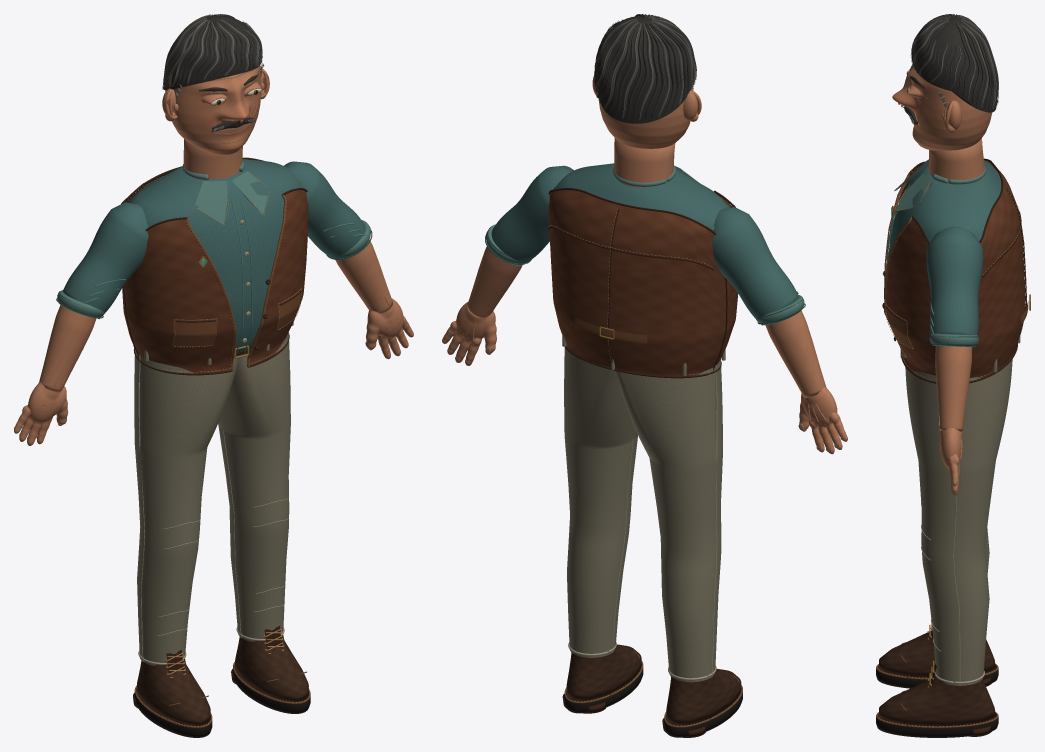
3 renders of one model, left to right at view 1: azimuth 30°, elevation 25°; view 2: azimuth 150°, elevation 25°; view 3: azimuth 270°, elevation 25°, orthographic.
Visible parts, largest first — view 1: Trousers and belt / 02 | Warm grey canvas, Woven shirt / 01 | Faded petrol woven cotton, Leather waistcoat / 03 | Chestnut leather, Hands and forearms / 05 | Warm skin with vertex complexion, Boots / 04 | Polished work boot leather, Head and face / 05 | Warm skin with vertex complexion, Hair / 06 | Salt and pepper — charcoal, Woven shirt / Cotton | folded edges, Leather waistcoat / Leather | raised edge, Hair / Hair | warm graphite, Boots / Rubber and heel, Neck / 05 | Warm skin with vertex complexion (+2 smaller); view 2: Trousers and belt / 02 | Warm grey canvas, Leather waistcoat / 03 | Chestnut leather, Woven shirt / 01 | Faded petrol woven cotton, Hands and forearms / 05 | Warm skin with vertex complexion, Hair / 06 | Salt and pepper — charcoal, Boots / 04 | Polished work boot leather, Hair / Hair | warm graphite, Head and face / 05 | Warm skin with vertex complexion, Neck / 05 | Warm skin with vertex complexion, Leather waistcoat / Leather | panel seams, Boots / Rubber and heel, Woven shirt / Cotton | folded edges (+2 smaller); view 3: Trousers and belt / 02 | Warm grey canvas, Leather waistcoat / 03 | Chestnut leather, Woven shirt / 01 | Faded petrol woven cotton, Boots / 04 | Polished work boot leather, Hair / 06 | Salt and pepper — charcoal, Head and face / 05 | Warm skin with vertex complexion, Hands and forearms / 05 | Warm skin with vertex complexion, Hair / Hair | warm graphite, Boots / Rubber and heel, Woven shirt / Cotton | folded edges, Neck / 05 | Warm skin with vertex complexion, Leather waistcoat / Leather | raised edge (+6 smaller).
Boxes of the visible parts, x1,y1,x2,y2 form: Trousers and belt / 02 | Warm grey canvas: [134, 322, 293, 665]; Woven shirt / 01 | Faded petrol woven cotton: [62, 159, 365, 358]; Leather waistcoat / 03 | Chestnut leather: [122, 159, 308, 373]; Hands and forearms / 05 | Warm skin with vertex complexion: [14, 239, 413, 445]; Boots / 04 | Polished work boot leather: [137, 634, 308, 726]; Head and face / 05 | Warm skin with vertex complexion: [162, 65, 269, 155]; Hair / 06 | Salt and pepper — charcoal: [163, 14, 261, 91]; Woven shirt / Cotton | folded edges: [57, 160, 370, 355]; Leather waistcoat / Leather | raised edge: [172, 194, 301, 371]; Hair / Hair | warm graphite: [162, 14, 264, 97]; Boots / Rubber and heel: [134, 664, 310, 737]; Neck / 05 | Warm skin with vertex complexion: [183, 139, 242, 179]; Trousers and belt / 02 | Warm grey canvas: [562, 333, 725, 682]; Leather waistcoat / 03 | Chestnut leather: [548, 190, 737, 376]; Woven shirt / 01 | Faded petrol woven cotton: [491, 163, 798, 325]; Hands and forearms / 05 | Warm skin with vertex complexion: [442, 246, 847, 454]; Hair / 06 | Salt and pepper — charcoal: [594, 14, 696, 123]; Boots / 04 | Polished work boot leather: [566, 644, 741, 725]; Hair / Hair | warm graphite: [594, 14, 696, 120]; Head and face / 05 | Warm skin with vertex complexion: [592, 75, 701, 148]; Neck / 05 | Warm skin with vertex complexion: [614, 138, 675, 187]; Leather waistcoat / Leather | panel seams: [547, 188, 735, 378]; Boots / Rubber and heel: [564, 663, 742, 737]; Woven shirt / Cotton | folded edges: [486, 165, 804, 325]; Trousers and belt / 02 | Warm grey canvas: [903, 335, 1020, 685]; Leather waistcoat / 03 | Chestnut leather: [886, 160, 1025, 377]; Woven shirt / 01 | Faded petrol woven cotton: [889, 159, 1001, 345]; Boots / 04 | Polished work boot leather: [878, 631, 995, 726]; Hair / 06 | Salt and pepper — charcoal: [911, 14, 997, 112]; Head and face / 05 | Warm skin with vertex complexion: [892, 67, 992, 150]; Hands and forearms / 05 | Warm skin with vertex complexion: [935, 345, 972, 495]; Hair / Hair | warm graphite: [910, 14, 998, 109]; Boots / Rubber and heel: [876, 666, 998, 737]; Woven shirt / Cotton | folded edges: [886, 160, 985, 346]; Neck / 05 | Warm skin with vertex complexion: [929, 138, 984, 183]; Leather waistcoat / Leather | raised edge: [884, 169, 1028, 357].
Size of the model in its own units: 1.07 by 1.75 by 0.3588.
27 materials, 4 textured.
